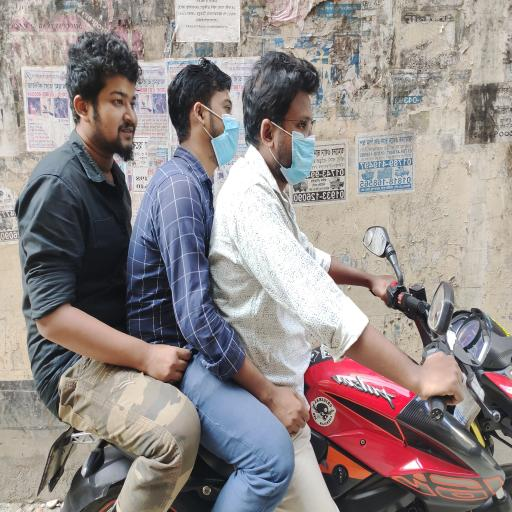overloading: (15, 26, 486, 508)
